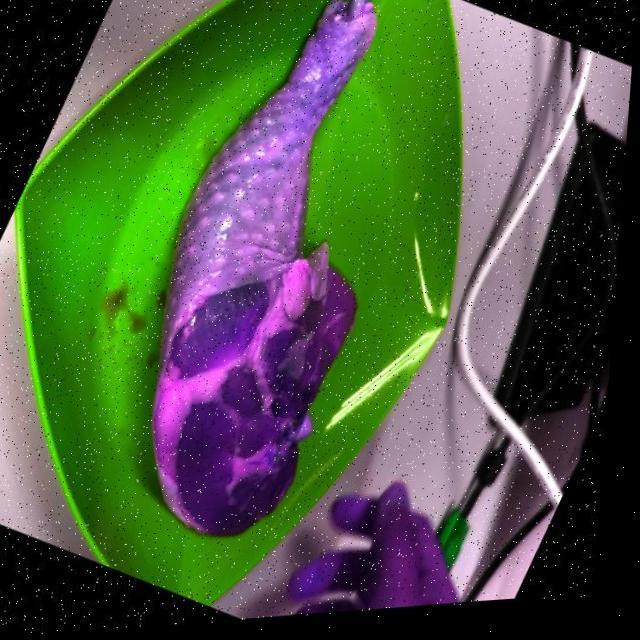quater: (162, 0, 372, 528)
